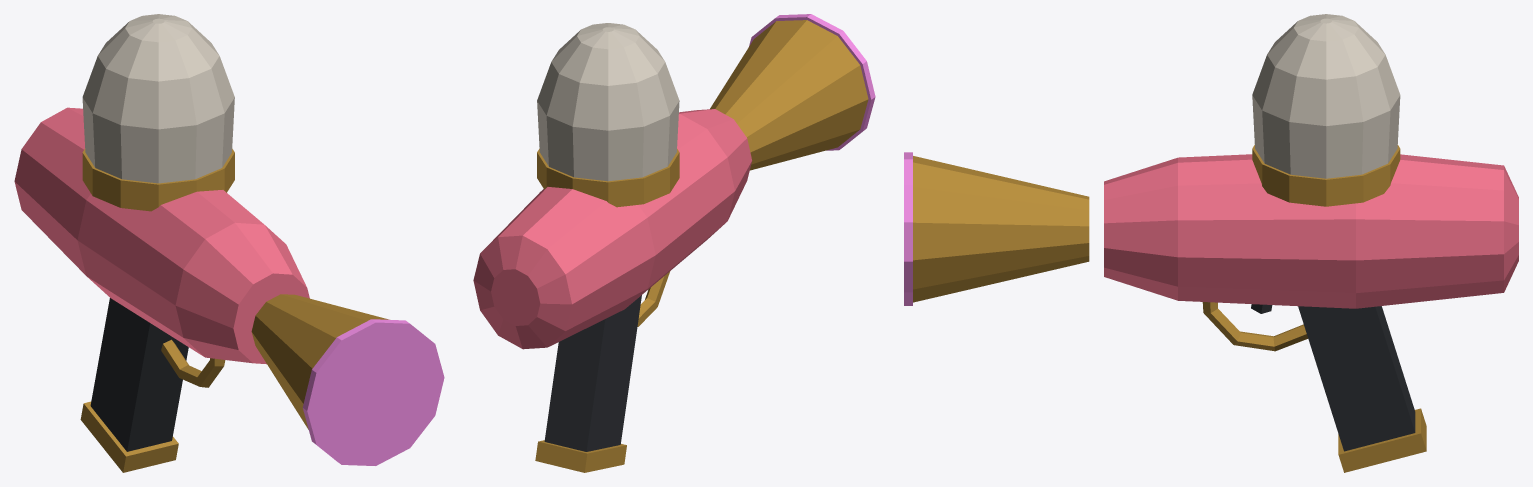
File: JellyGun.obj
3 views of the same model, side by side, from view 1: azimuth 30°, elevation 25°; view 2: azimuth 150°, elevation 25°; view 3: azimuth 270°, elevation 25° (orthographic). The views are drawn at different scales.
Visible parts, largest first — view 1: JellyGun; view 2: JellyGun; view 3: JellyGun.
Part boxes in pixels (left/top/right/bottom): JellyGun: left=14, top=14, right=444, bottom=472; JellyGun: left=473, top=14, right=875, bottom=472; JellyGun: left=904, top=14, right=1518, bottom=472.
Bounding box in the file's own units: 0.104 × 0.3272 × 0.415.
